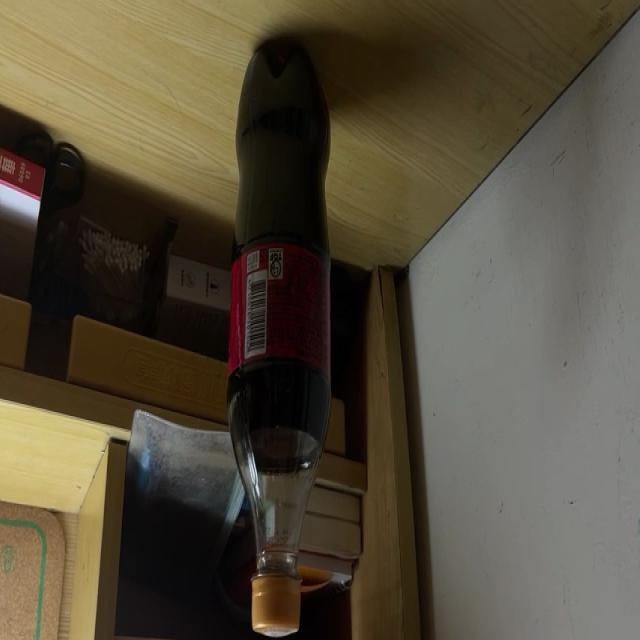Coca-Cola: (227, 41, 331, 640)
